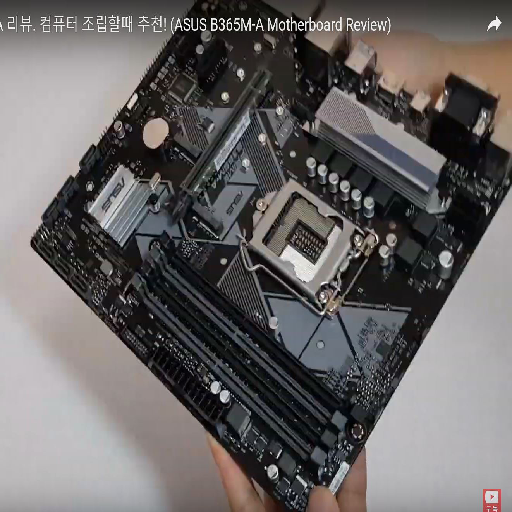CPU: (244, 179, 380, 312)
GPU: (163, 65, 275, 221)
MOTHERBOARD: (31, 1, 512, 511)
RAM: (129, 230, 364, 477)
SSD: (190, 201, 228, 239), (169, 132, 206, 164)
